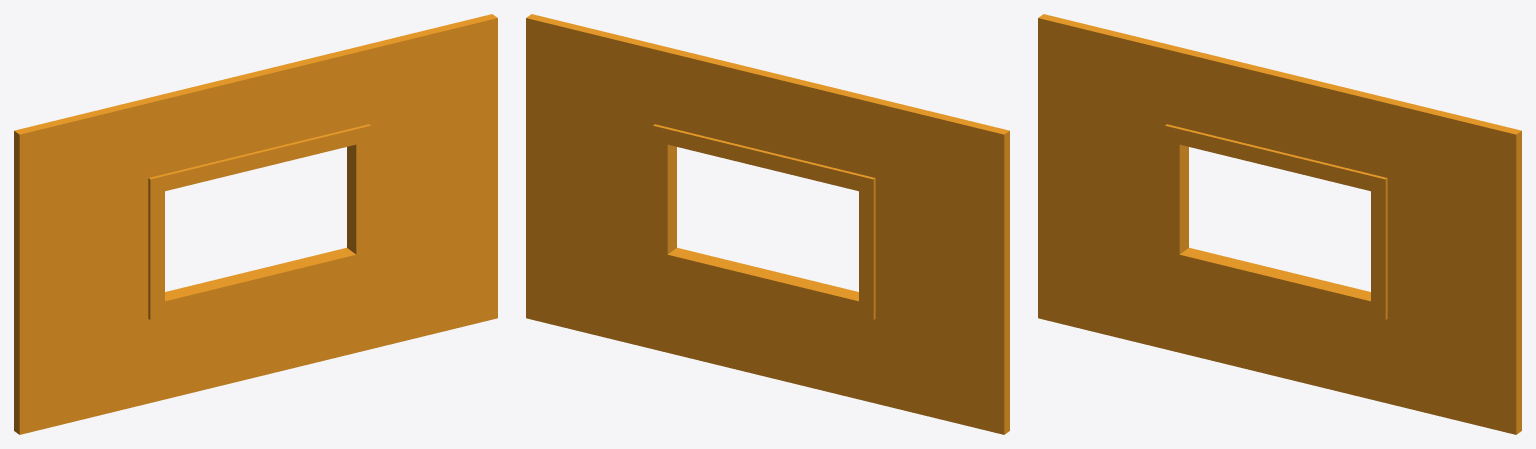
Rendered from SM_Buildings_WallWindowDouble_5x3_01.fbx.
The picture shows the model from 3 angles, left to right: view 1: azimuth 30°, elevation 25°; view 2: azimuth 150°, elevation 25°; view 3: azimuth 330°, elevation 25°; orthographic projection.
Visible parts, largest first — view 1: SM_Buildings_WallWindowDouble_5x3_01; view 2: SM_Buildings_WallWindowDouble_5x3_01; view 3: SM_Buildings_WallWindowDouble_5x3_01.
Boxes of the visible parts, <box> form: SM_Buildings_WallWindowDouble_5x3_01: <box>14,14,497,434</box>; SM_Buildings_WallWindowDouble_5x3_01: <box>526,14,1009,434</box>; SM_Buildings_WallWindowDouble_5x3_01: <box>1038,14,1521,434</box>.
Bounding box in the file's own units: 500 × 300 × 17.29.
